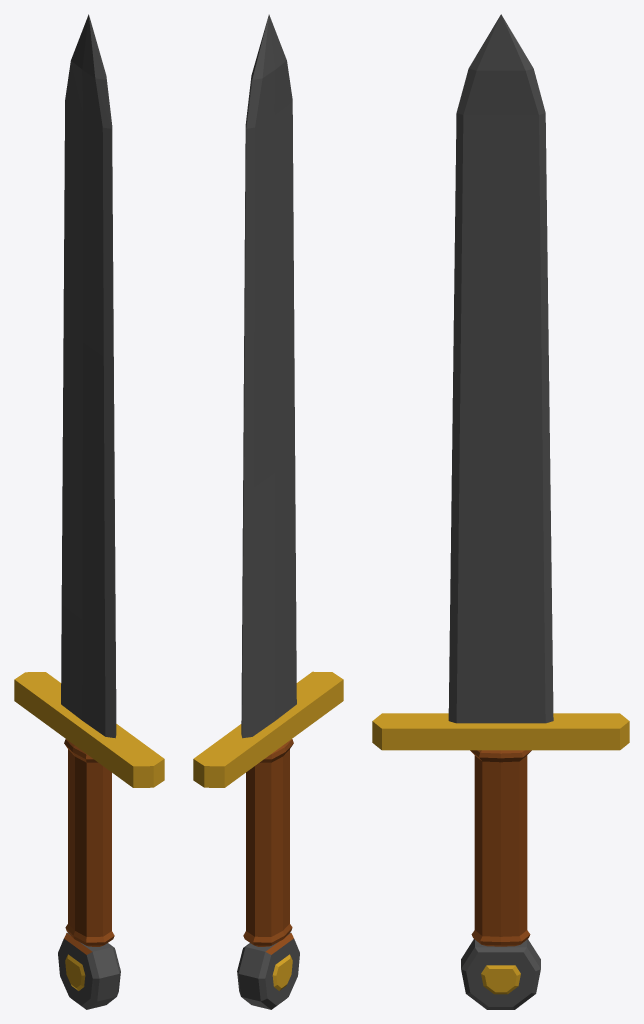
Rendered from Proto_Sword_01.fbx.
The picture shows the model from 3 angles, left to right: view 1: azimuth 30°, elevation 25°; view 2: azimuth 150°, elevation 25°; view 3: azimuth 270°, elevation 25°; orthographic projection.
Parts seen in each view (by area): view 1: Proto_Sword_01; view 2: Proto_Sword_01; view 3: Proto_Sword_01.
Boxes of the visible parts, bbox=[...] form: Proto_Sword_01: bbox=[14, 14, 164, 1009]; Proto_Sword_01: bbox=[193, 14, 343, 1009]; Proto_Sword_01: bbox=[372, 14, 629, 1009].
Size of the model in its own units: 0.0371 by 1.02 by 0.2395.
